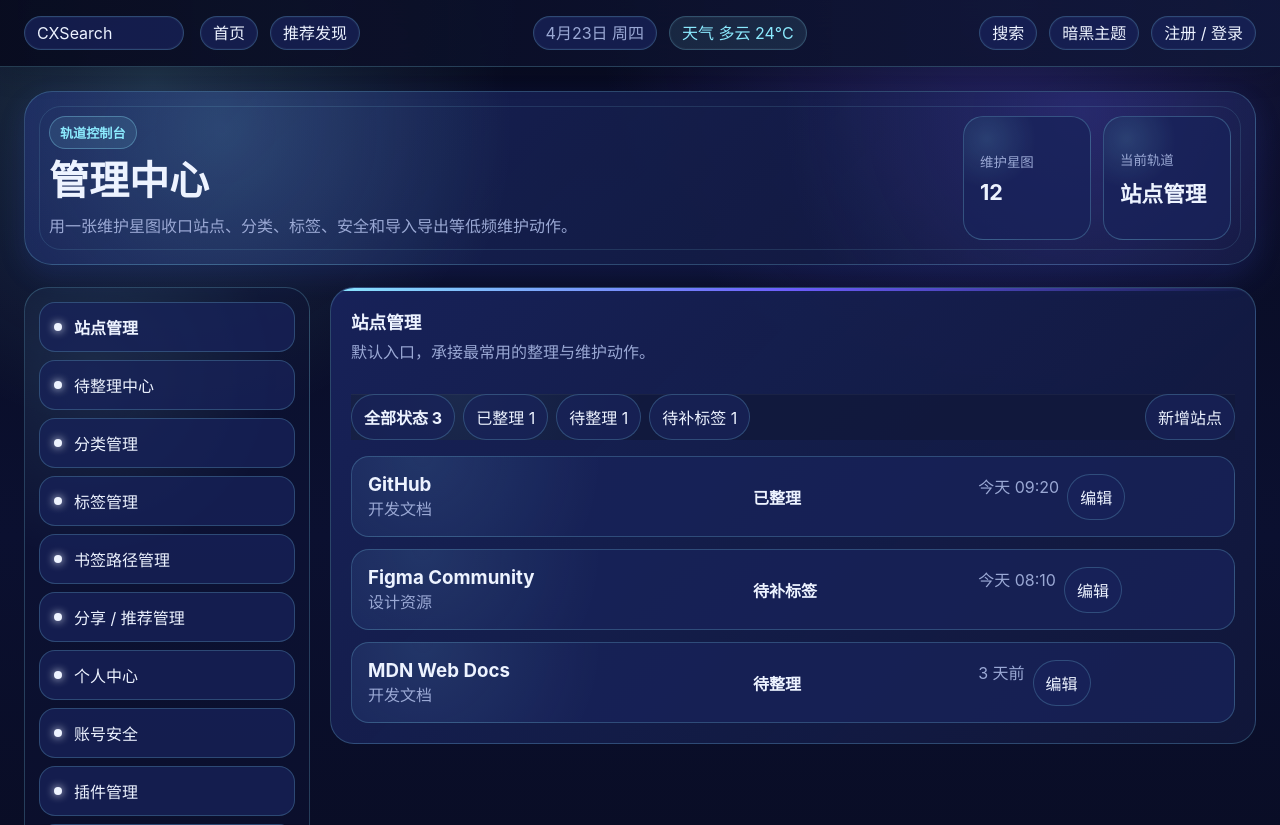
prototype entry points › opens extension popup preview from plugin management
Click the button "插件管理": x=167, y=791 [39,766,295,816]
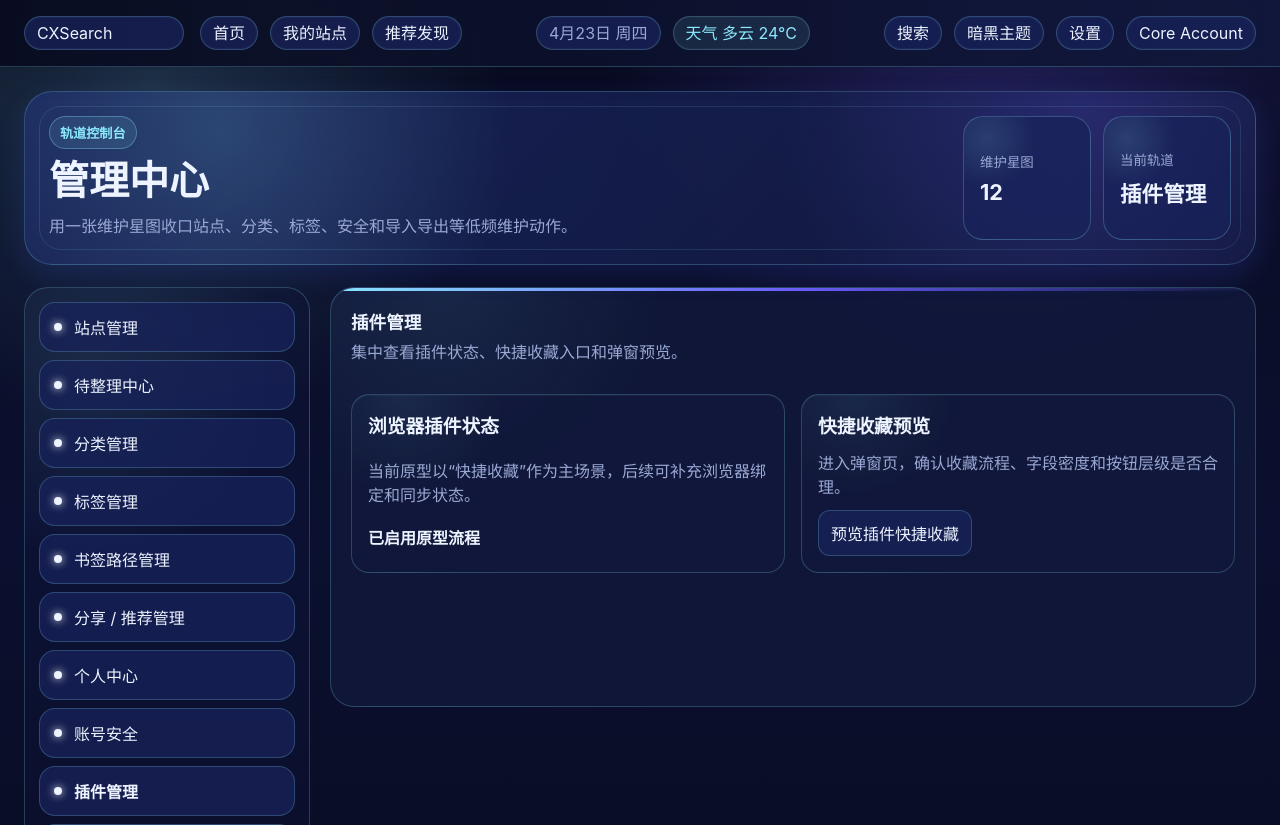
Check: the heading "插件管理" is shown, box [351,312,421,333]
Click the link "预览插件快捷收藏": x=895, y=533 [818,510,972,556]
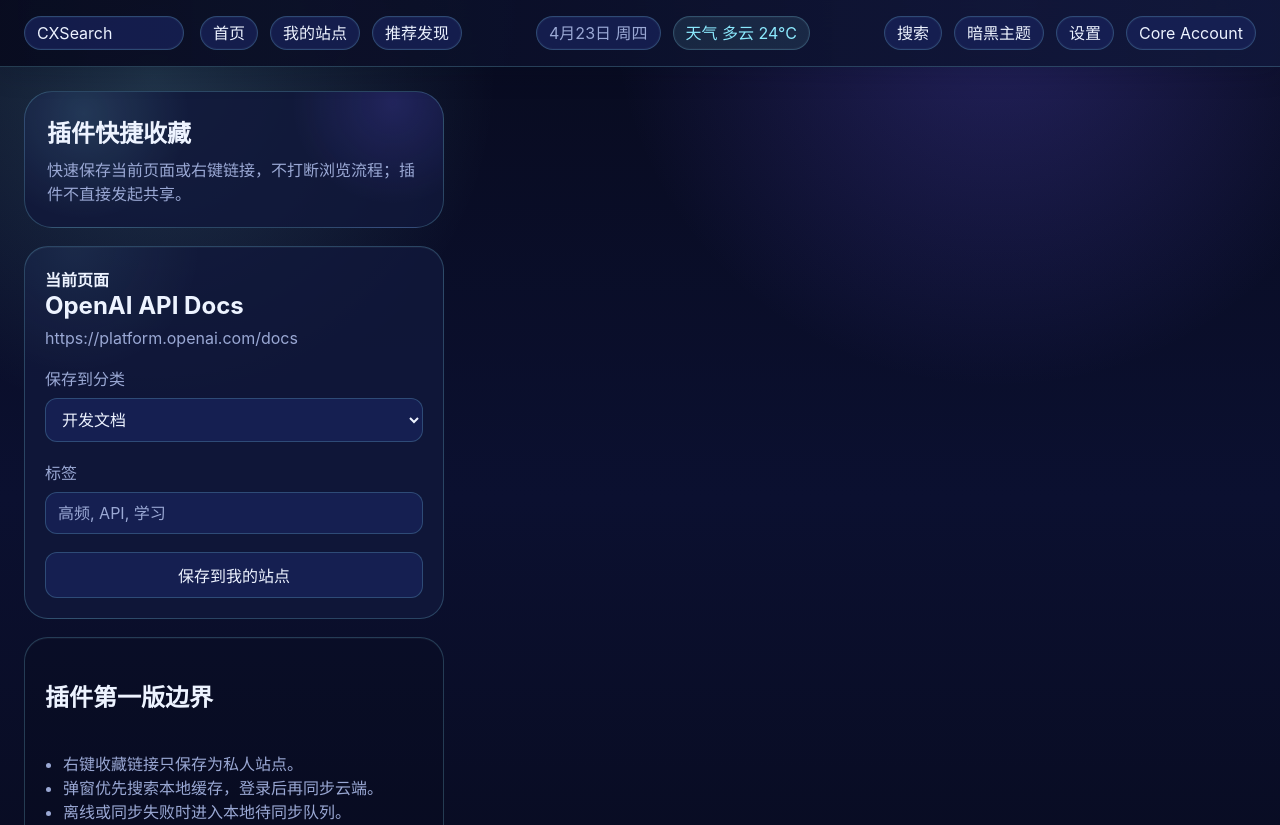
Check: the heading "插件快捷收藏" is shown, box [47,119,191,148]
